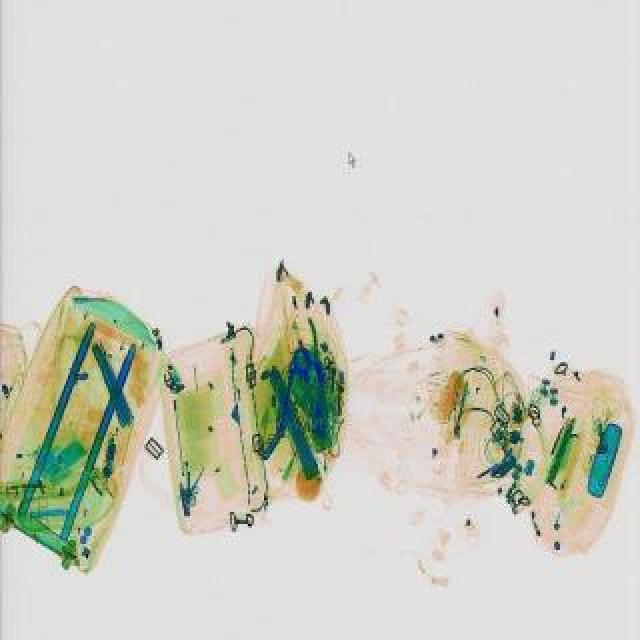wrench: (288, 316, 340, 396)
